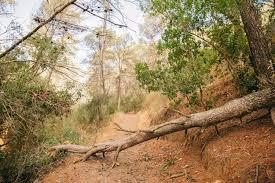Downstairs: (44, 87, 275, 165)
